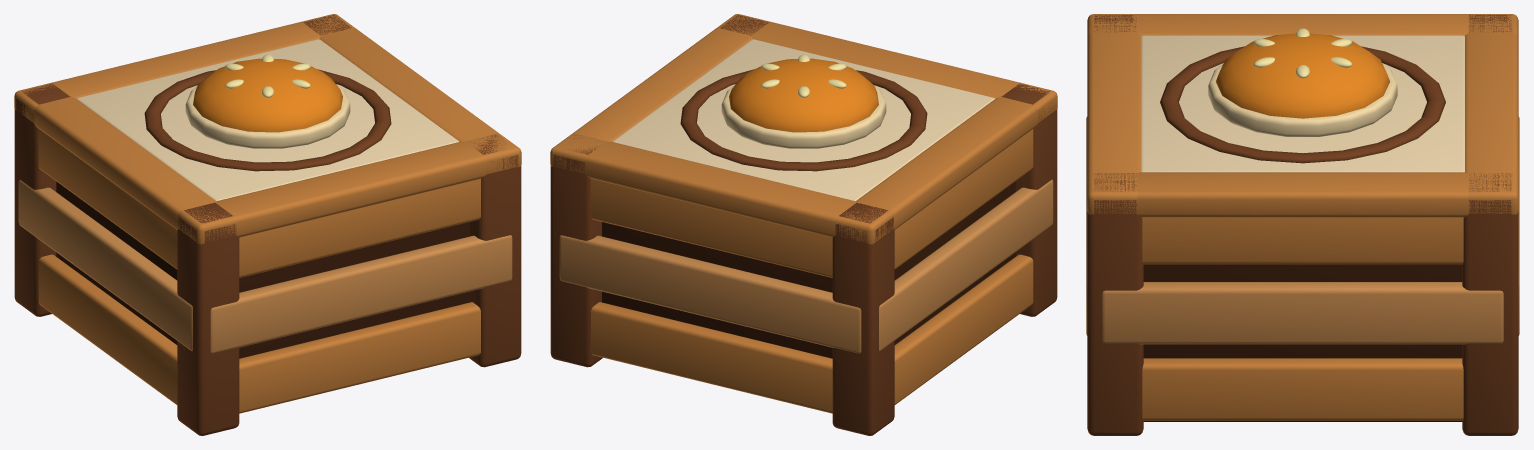
Rendered from crate_buns.gltf.
3 renders of one model, left to right at view 1: azimuth 30°, elevation 25°; view 2: azimuth 150°, elevation 25°; view 3: azimuth 270°, elevation 25°, orthographic. The views are drawn at different scales.
Parts seen in each view (by area): view 1: CrateShadowCore; view 2: CrateShadowCore; view 3: CrateShadowCore.
Boxes of the visible parts, x1,y1,x2,y2 form: CrateShadowCore: (14,14,521,435); CrateShadowCore: (550,14,1057,435); CrateShadowCore: (1086,14,1519,435).
Bounding box in the file's own units: 1.01 × 0.7663 × 1.01.
